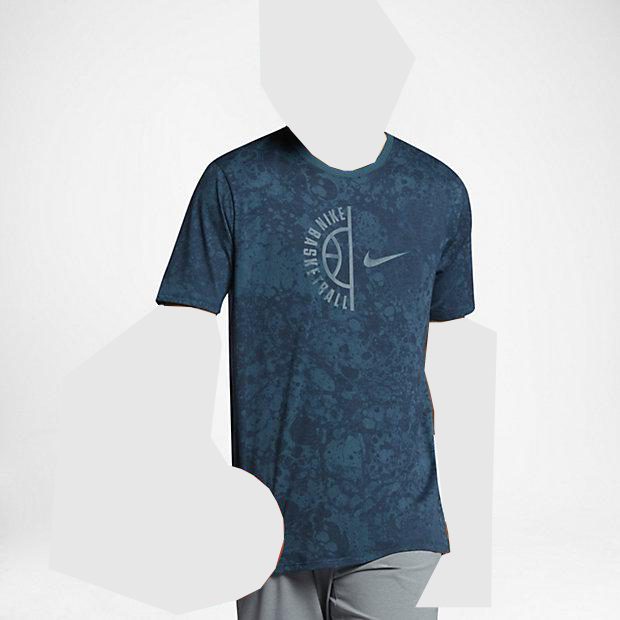teeshirt: (151, 122, 481, 564)
